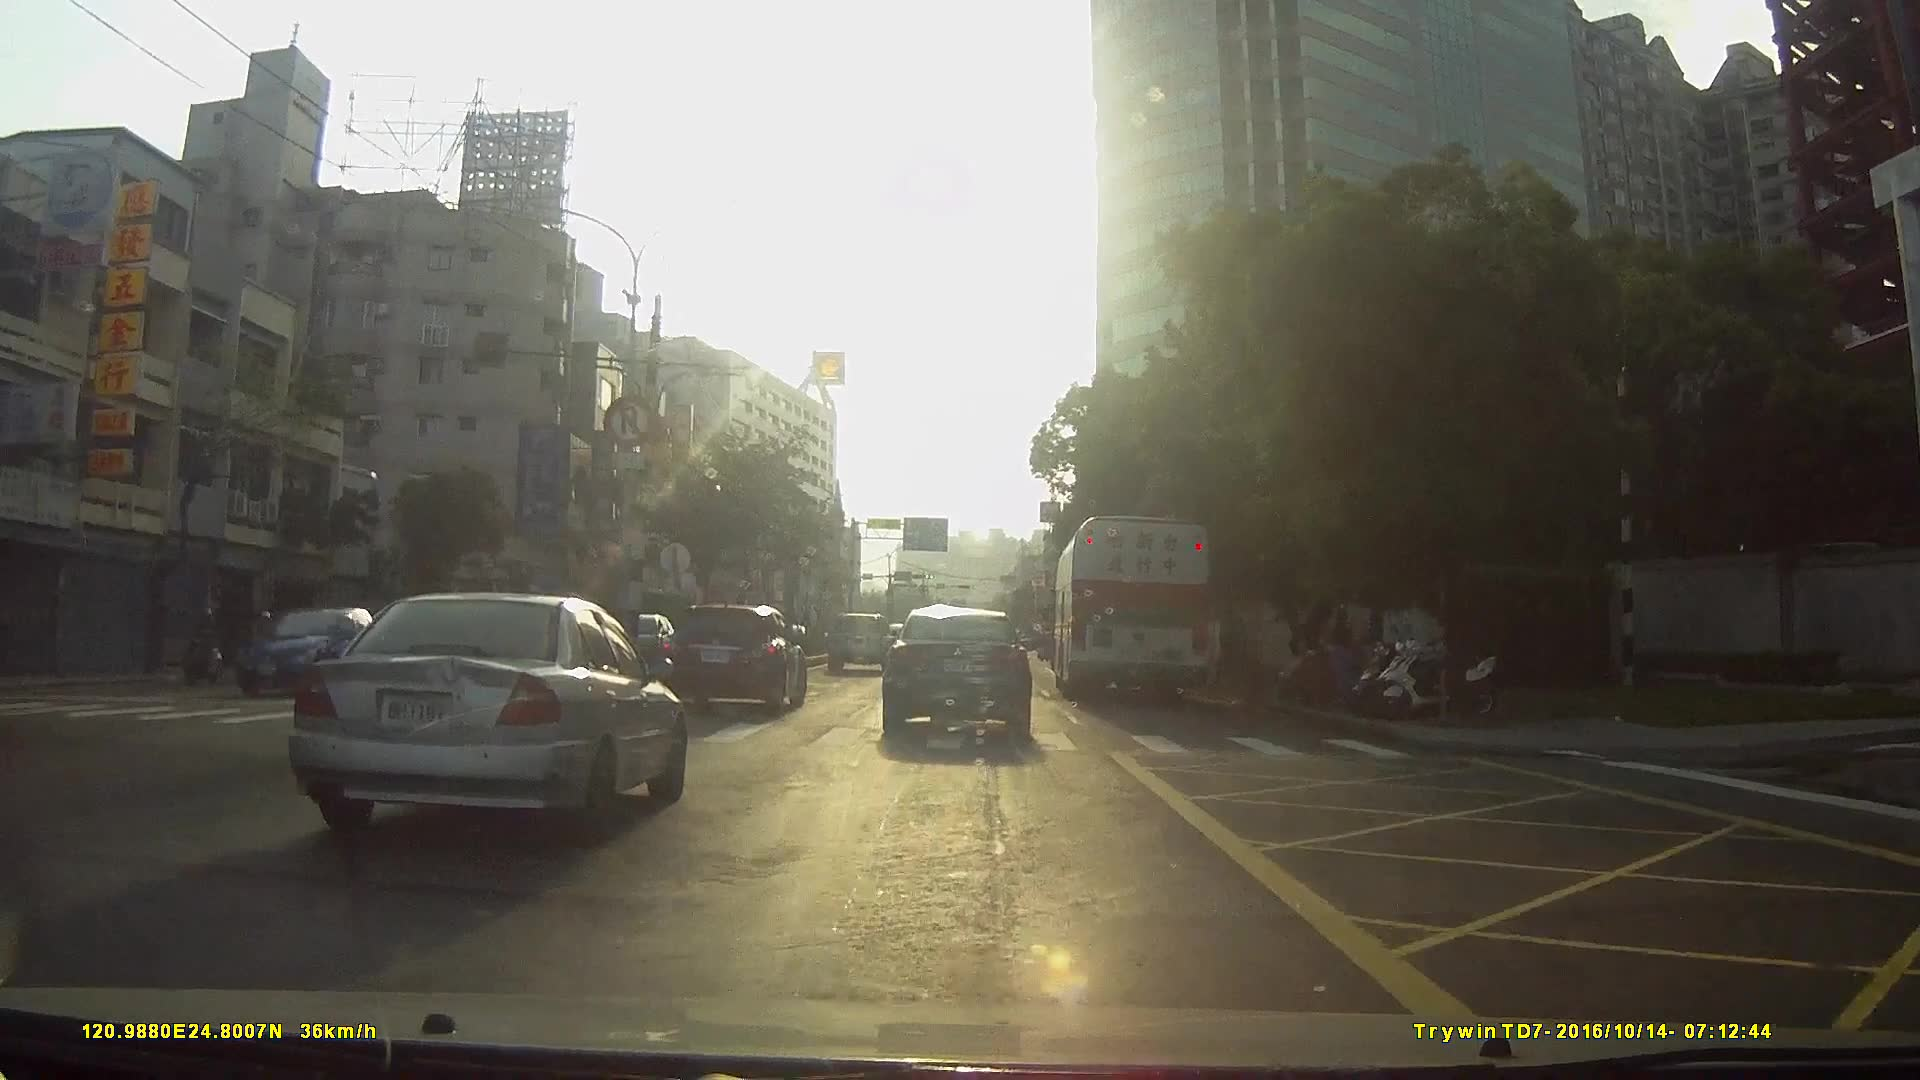rider: (184, 607, 228, 682)
vehicle: (281, 590, 685, 842), (1052, 511, 1215, 709), (882, 606, 1035, 745), (229, 602, 393, 713), (664, 604, 811, 718), (824, 614, 895, 678)
